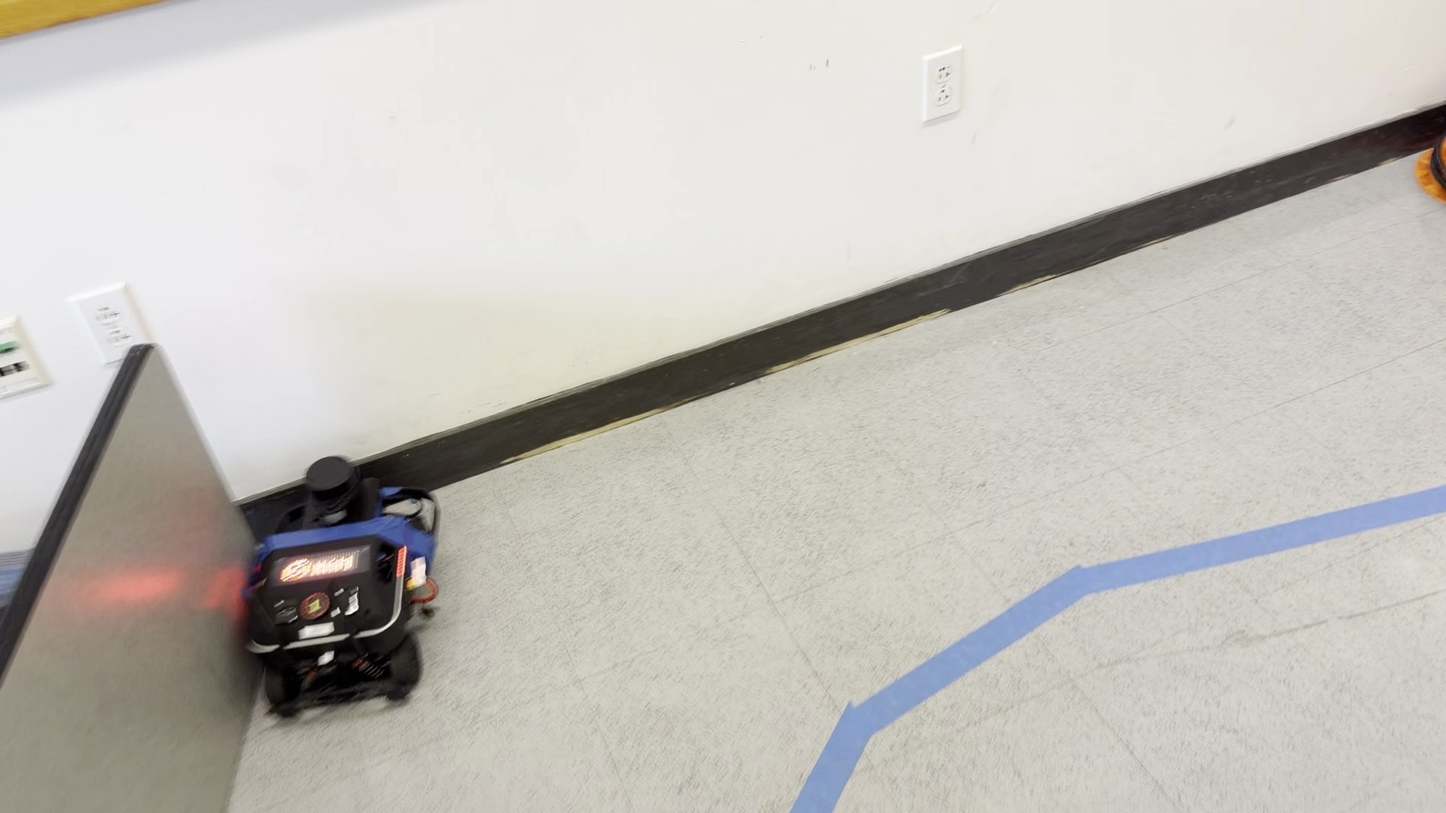racecar: (234, 454, 441, 712)
